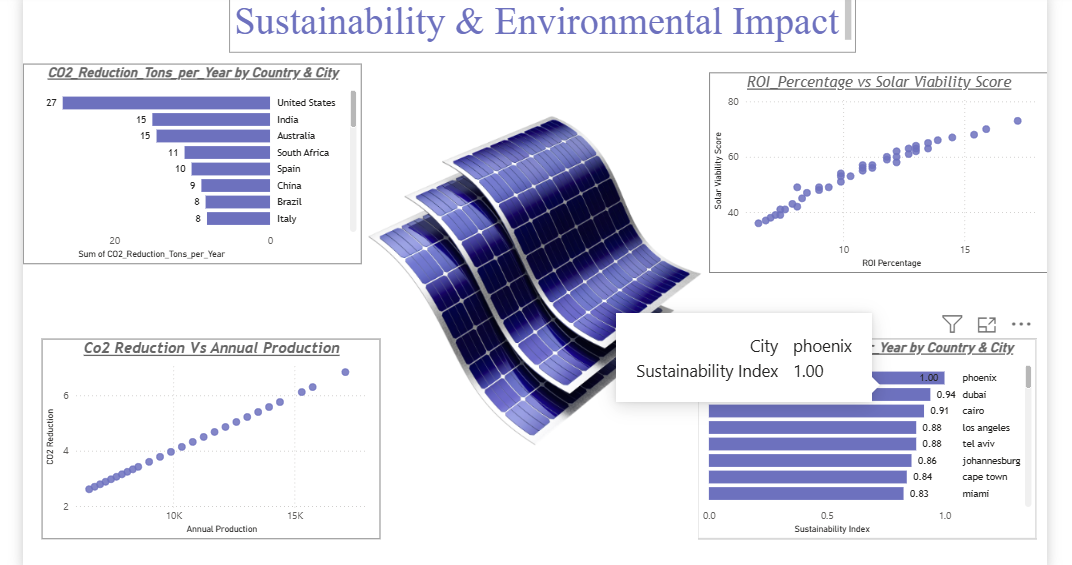

The page's visual inventory and layout, read from the dashboard file:
{"tool":"powerbi","page":{"name":"Sustainability & Environmental Impact","canvas":[1280,720],"ordinal":2},"visuals":[{"type":"textbox","box":[258.5,0,783.4,72.3],"z":0},{"type":"barChart","title":"CO2_Reduction_Tons_per_Year by Country & City","fields":{"Y":["Sum(solar_energy_worldwide.CO2_Reduction_Tons_per_Year)"],"Category":["solar_energy_worldwide.Country","solar_energy_worldwide.City"]},"box":[0,85.7,423.2,250.4],"z":1000},{"type":"scatterChart","title":"ROI_Percentage vs Solar Viability Score","fields":{"X":["solar_energy_worldwide.ROI_Percentage"],"Y":["solar_energy_worldwide.Solar_Viability_Score"]},"box":[857.1,96.4,423.2,250.4],"z":2000},{"type":"scatterChart","title":"Co2 Reduction Vs Annual Production","fields":{"X":["solar_energy_worldwide.Avg_Annual_Production_kWh"],"Y":["solar_energy_worldwide.CO2_Reduction_Tons_per_Year"]},"box":[24.1,429.9,423.2,250.4],"z":3000},{"type":"barChart","title":"CO2_Reduction_Tons_per_Year by Country & City","fields":{"Category":["solar_energy_worldwide.City"],"Y":["Measures Table.Sustainability Index"]},"box":[843.7,429.9,423.2,250.4],"z":4000}]}

Visuals, with their boxes on the page's 1280x720 design canvas (x1, y1, x2, y2). These are canvas units, not pixel positions in the 1072x565 screenshot, which may show the page scaled, cropped or inside an application window:
textbox: (x1=258, y1=0, x2=1042, y2=72)
"CO2_Reduction_Tons_per_Year by Country & City" barChart: (x1=0, y1=86, x2=423, y2=336)
"ROI_Percentage vs Solar Viability Score" scatterChart: (x1=857, y1=96, x2=1280, y2=347)
"Co2 Reduction Vs Annual Production" scatterChart: (x1=24, y1=430, x2=447, y2=680)
"CO2_Reduction_Tons_per_Year by Country & City" barChart: (x1=844, y1=430, x2=1267, y2=680)
